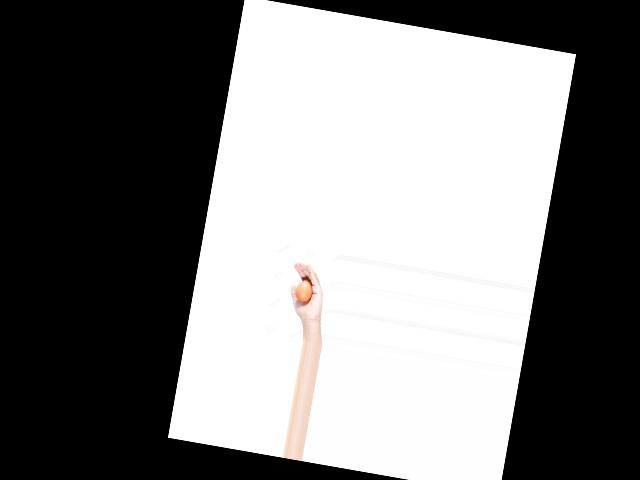egg: (294, 279, 314, 303)
